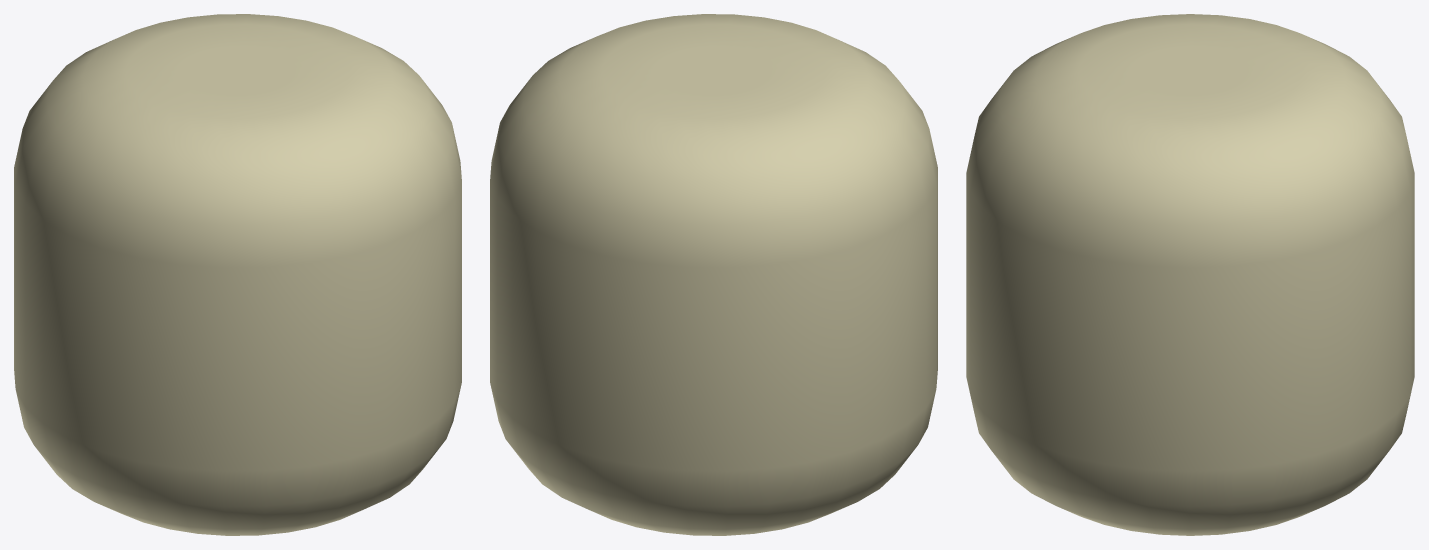
The model's file is Shape_WideCapsule.FBX.
3 renders of one model, left to right at view 1: azimuth 30°, elevation 25°; view 2: azimuth 150°, elevation 25°; view 3: azimuth 270°, elevation 25°, orthographic.
Parts seen in each view (by area): view 1: Shape_WideCapsule; view 2: Shape_WideCapsule; view 3: Shape_WideCapsule.
Part boxes in pixels (x1=…): Shape_WideCapsule: x1=14, y1=14, x2=461, y2=535; Shape_WideCapsule: x1=490, y1=14, x2=937, y2=535; Shape_WideCapsule: x1=966, y1=14, x2=1414, y2=535.
Size of the model in its own units: 100 by 100 by 100.
